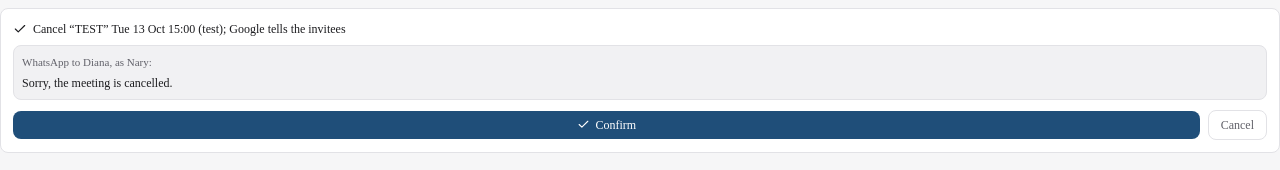
Test case: Nary's small cards › cancels a meeting only on Confirm, and says when the customer message failed
Expected: the text "Sorry, the meeting is cancelled." is shown, [22,76,172,90]
Step 1. Click the button "Confirm" → x=606, y=124, box [13,110,1200,138]
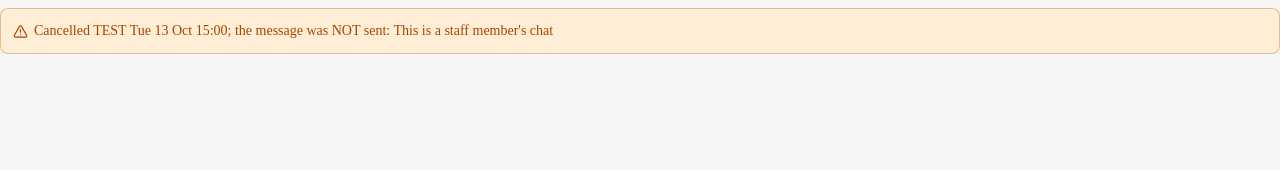
Expected: the text "NOT sent: This is a staff member's chat" is shown, [34,23,553,38]
